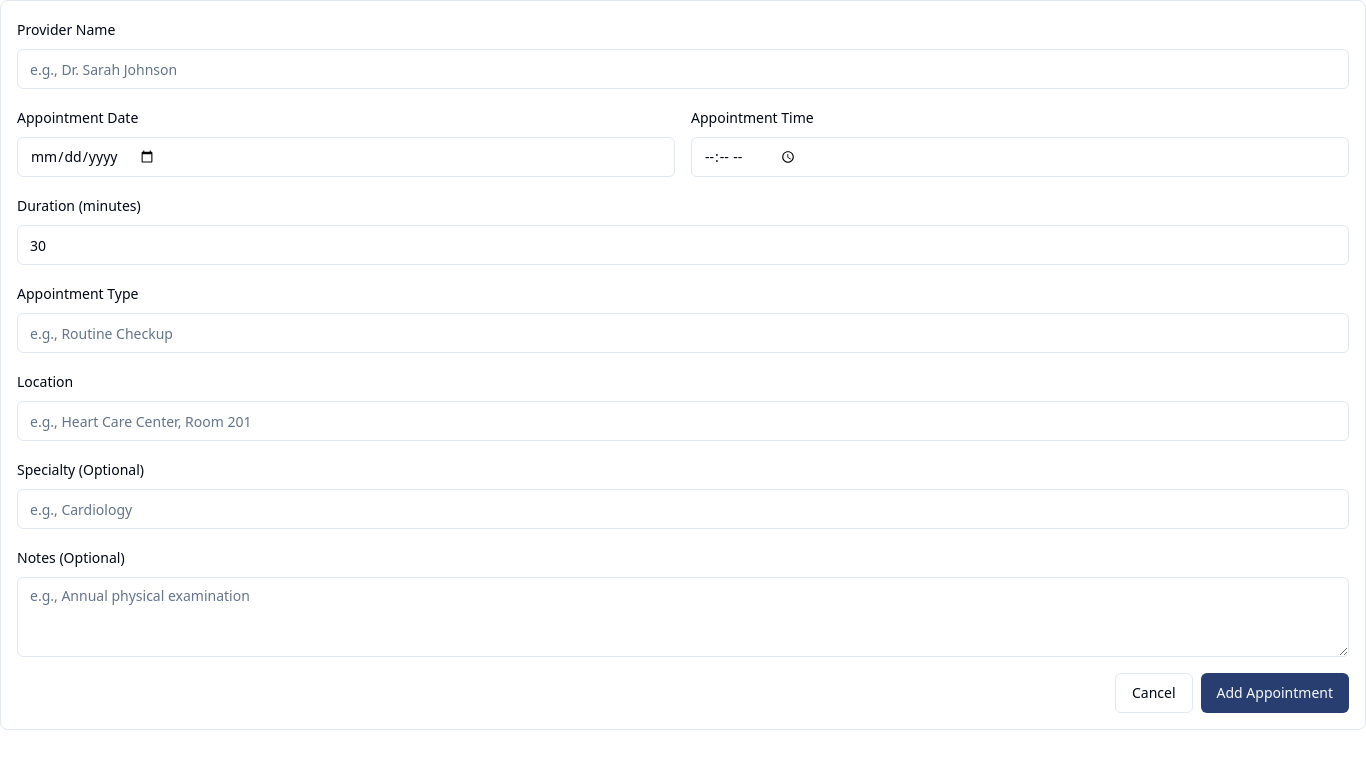
Test: AddAppointmentForm › shows validation errors for required fields
The width and height of the screenshot is (1366, 768).
Click the button "Add Appointment" at (1275, 693), box [1200,673,1349,713]
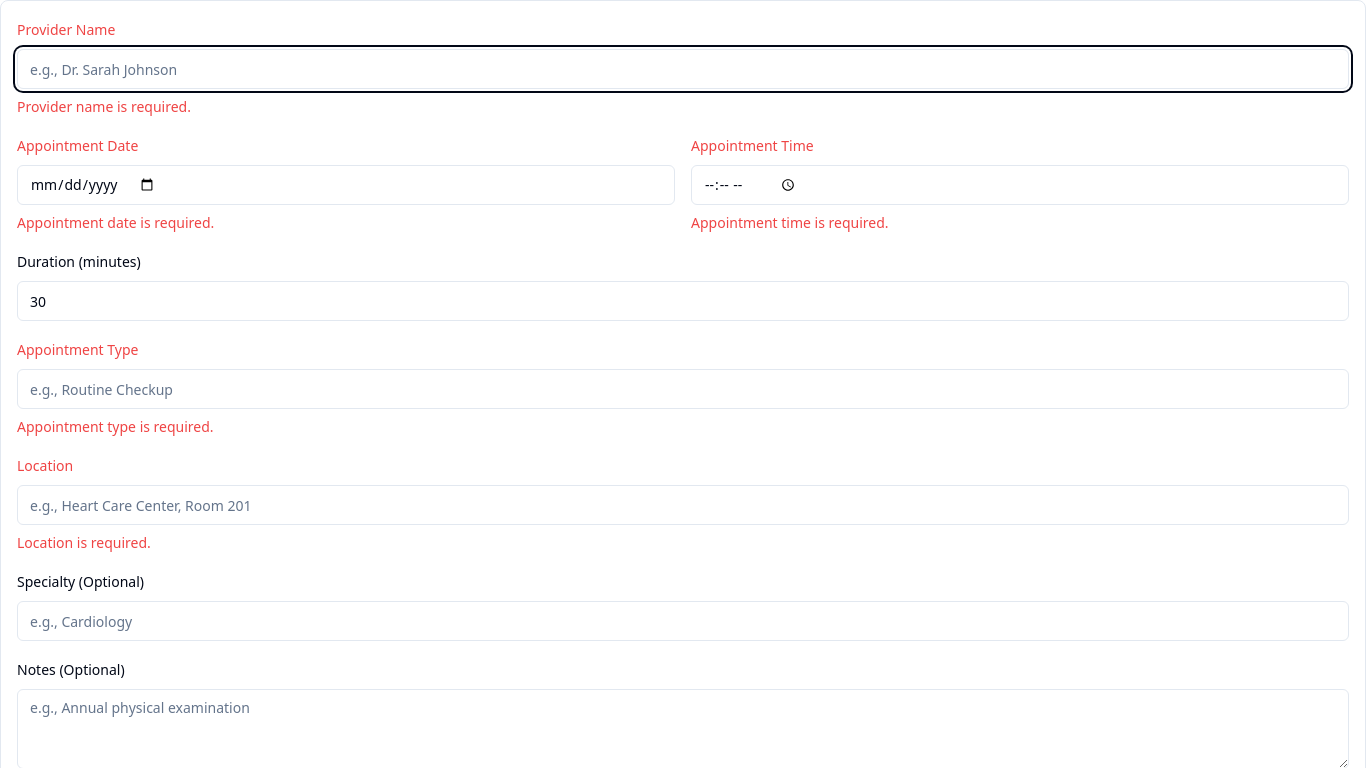
Check: the text "Provider name is required." is shown, box [17,97,191,116]
Check: the text "Appointment date is required." is shown, box [17,213,214,232]
Check: the text "Appointment time is required." is shown, box [691,213,889,232]
